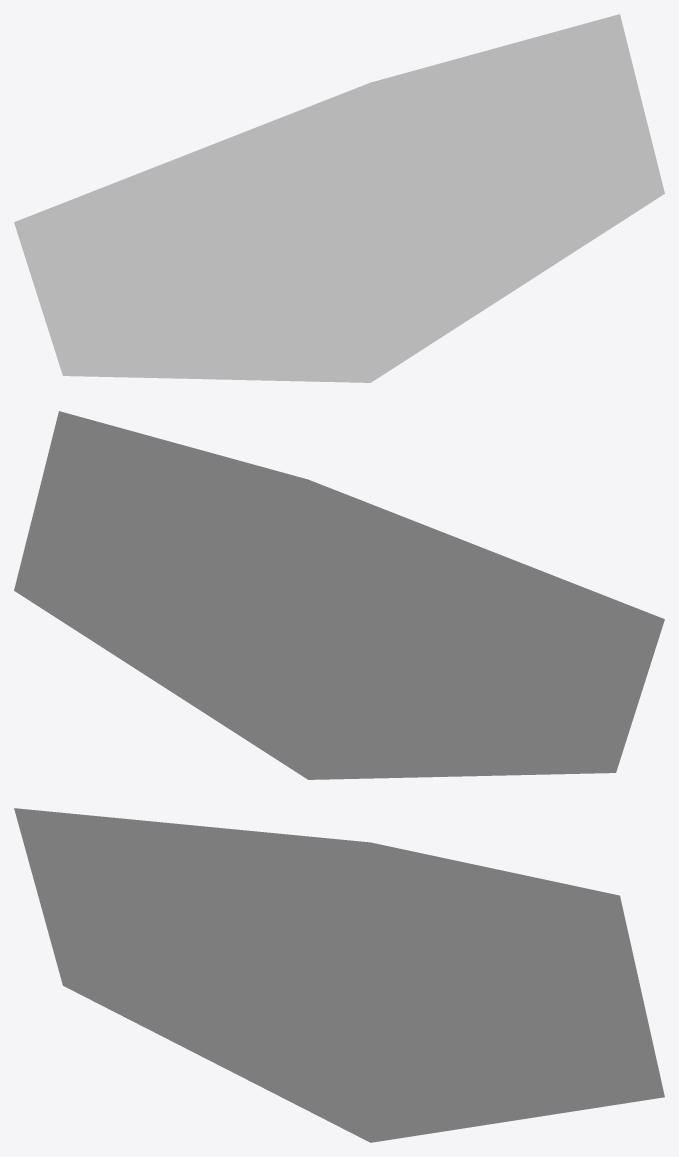
File: mesh_world_cloud_1_cloud01.FBX
The picture shows the model from 3 angles, top to bottom: view 1: azimuth 30°, elevation 25°; view 2: azimuth 150°, elevation 25°; view 3: azimuth 330°, elevation 25°; orthographic projection.
Parts seen in each view (by area): view 1: mesh_world_cloud_1_cloud01; view 2: mesh_world_cloud_1_cloud01; view 3: mesh_world_cloud_1_cloud01.
Boxes of the visible parts, bbox=[...] form: mesh_world_cloud_1_cloud01: bbox=[14, 14, 664, 382]; mesh_world_cloud_1_cloud01: bbox=[14, 411, 664, 779]; mesh_world_cloud_1_cloud01: bbox=[14, 808, 664, 1142].
Size of the model in its own units: 17.01 by 7.69 by 2.57e-06.
1 material, 1 textured.
